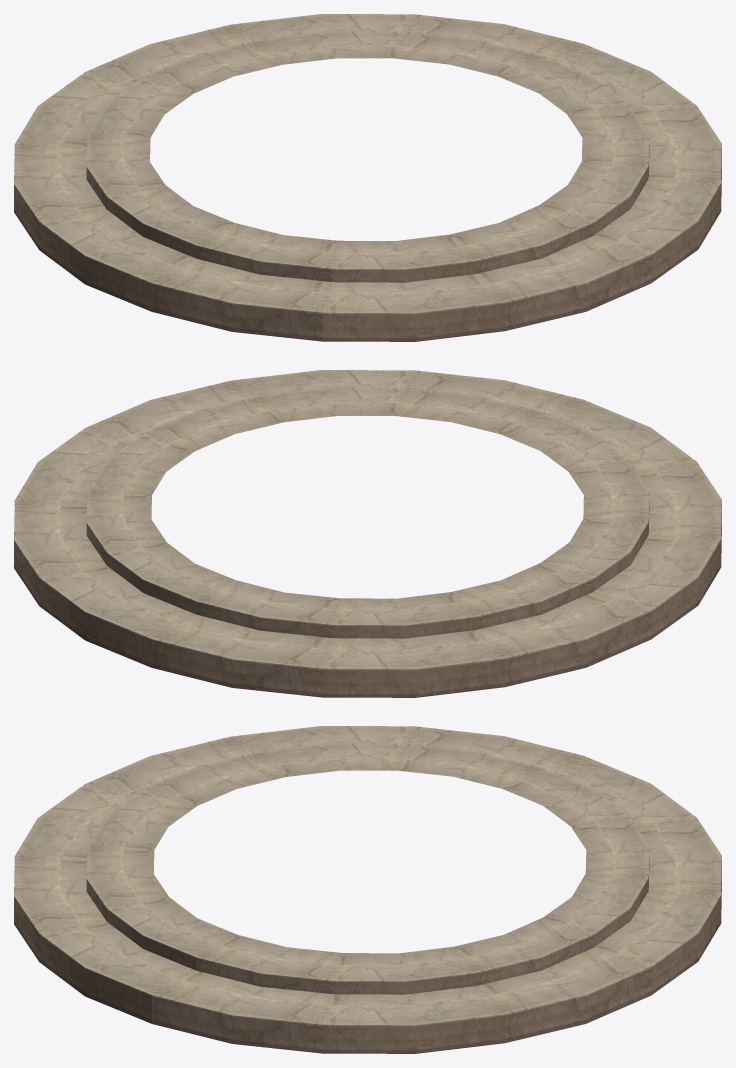
Rendered from cs_lobbynews02_jjc_yuantai_02.FBX.
3 views of the same model, one above another, from view 1: azimuth 30°, elevation 25°; view 2: azimuth 150°, elevation 25°; view 3: azimuth 270°, elevation 25° (orthographic).
Parts seen in each view (by area): view 1: cs_lobbynews02_jjc_yuantai_02; view 2: cs_lobbynews02_jjc_yuantai_02; view 3: cs_lobbynews02_jjc_yuantai_02.
Part boxes in pixels (x1=…): cs_lobbynews02_jjc_yuantai_02: x1=14, y1=14, x2=721, y2=341; cs_lobbynews02_jjc_yuantai_02: x1=14, y1=370, x2=721, y2=697; cs_lobbynews02_jjc_yuantai_02: x1=14, y1=726, x2=721, y2=1053.
Bounding box in the file's own units: 1912 × 1912 × 125.
